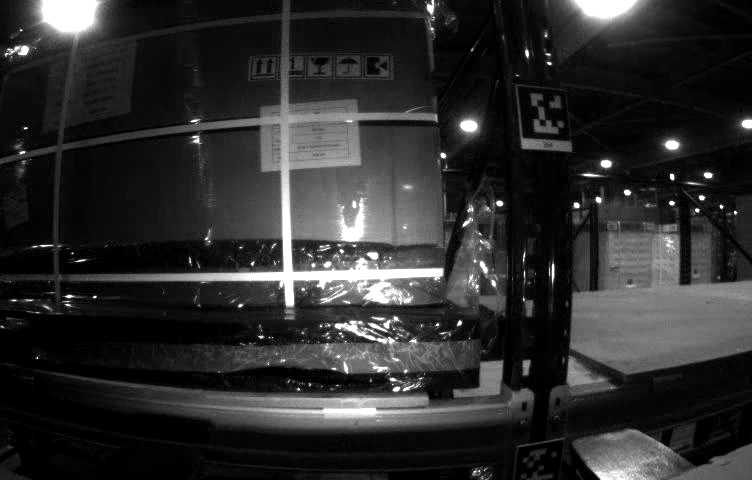True Barcode: (145, 100, 151, 109)
